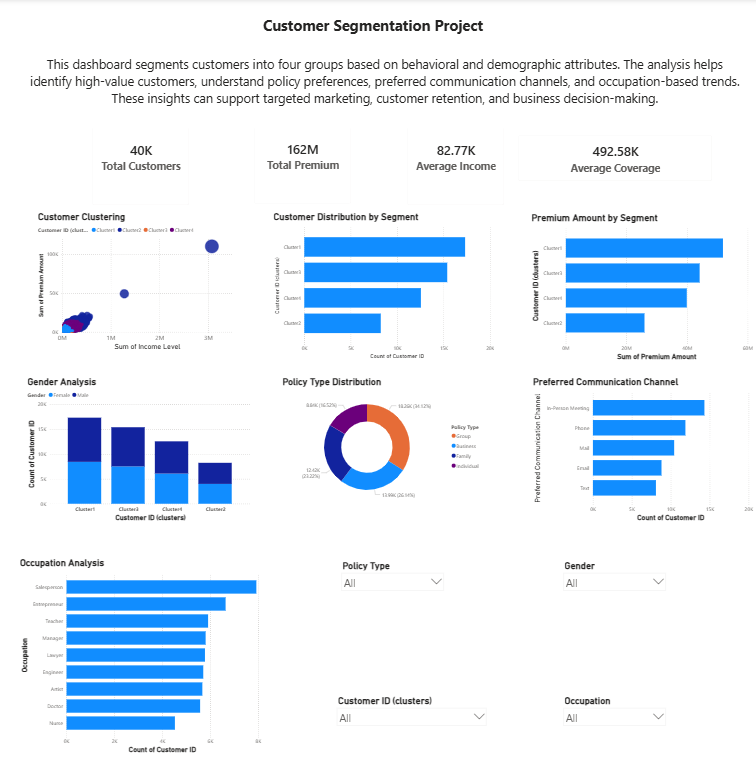

The dashboard page shown, as its layout file describes it:
{"tool":"powerbi","page":{"name":"Page 1","canvas":[1920,2000],"ordinal":0},"visuals":[{"type":"cardVisual","fields":{"Data":["customer_segmentation_dataset.Whole Customers"]},"box":[216.7,263.3,280,280],"z":0},{"type":"cardVisual","fields":{"Data":["customer_segmentation_dataset.Total Premium"]},"box":[630,260,280,280],"z":1000},{"type":"cardVisual","fields":{"Data":["customer_segmentation_dataset.Average Income"]},"box":[1016.7,263.3,280,280],"z":2000},{"type":"scatterChart","title":"Customer Clustering","fields":{"X":["Sum(customer_segmentation_dataset.Income Level)"],"Y":["Sum(customer_segmentation_dataset.Premium Amount)"],"Size":["Sum(customer_segmentation_dataset.Coverage Amount)"],"Category":["customer_segmentation_dataset.Customer ID"],"Series":["customer_segmentation_dataset.Customer ID (clusters)"]},"box":[93.3,540,516.7,360],"z":4000},{"type":"clusteredBarChart","title":"Customer Distribution by Segment","fields":{"Category":["customer_segmentation_dataset.Customer ID (clusters)"],"Y":["CountNonNull(customer_segmentation_dataset.Customer ID)"]},"box":[690,540,570,380],"z":5000},{"type":"clusteredBarChart","title":"Premium Amount by Segment","fields":{"Category":["customer_segmentation_dataset.Customer ID (clusters)"],"Y":["Sum(customer_segmentation_dataset.Premium Amount)"]},"box":[1346.7,543.3,573.3,380],"z":5001},{"type":"columnChart","title":"Gender Analysis","fields":{"Category":["customer_segmentation_dataset.Customer ID (clusters)"],"Series":["customer_segmentation_dataset.Gender"],"Y":["CountNonNull(customer_segmentation_dataset.Customer ID)"]},"box":[63.3,960,576.7,373.3],"z":5002},{"type":"donutChart","title":"Policy Type Distribution","fields":{"Category":["customer_segmentation_dataset.Policy Type"],"Y":["CountNonNull(customer_segmentation_dataset.Customer ID)"]},"box":[713.3,960,526.7,333.3],"z":5003},{"type":"clusteredBarChart","title":"Preferred Communication Channel","fields":{"Category":["customer_segmentation_dataset.Preferred Communication Channel"],"Y":["CountNonNull(customer_segmentation_dataset.Customer ID)"]},"box":[1350,960,570,373.3],"z":5004},{"type":"slicer","title":"Customer Distribution by Occupation","fields":{"Values":["customer_segmentation_dataset.Customer ID (clusters)"]},"box":[846.7,1763.3,400,163.3],"z":5005},{"type":"slicer","fields":{"Values":["customer_segmentation_dataset.Gender"]},"box":[1423.3,1423.3,280,200],"z":5006},{"type":"slicer","fields":{"Values":["customer_segmentation_dataset.Policy Type"]},"box":[856.7,1423.3,280,253.3],"z":5007},{"type":"slicer","fields":{"Values":["customer_segmentation_dataset.Occupation"]},"box":[1423.3,1763.3,280,230],"z":5008},{"type":"textbox","box":[663.3,36.7,583.3,103.3],"z":5009},{"type":"textbox","box":[63.3,140,1826.7,190],"z":5010},{"type":"clusteredBarChart","title":"Occupation Analysis","fields":{"Category":["customer_segmentation_dataset.Occupation"],"Y":["CountNonNull(customer_segmentation_dataset.Customer ID)"]},"box":[46.7,1423.3,623.3,503.3],"z":5011},{"type":"cardVisual","fields":{"Data":["customer_segmentation_dataset.mean_Coverage"]},"box":[1300,330,526.7,150],"z":5012}]}

Visuals, with their boxes in screenshot pixels (x1, y1, x2, y2), scaled from the page's 1920x2000 canvas onto the 756x783 screenshot:
cardVisual - customer_segmentation_dataset.Whole Customers: left=85, top=103, right=196, bottom=213
cardVisual - customer_segmentation_dataset.Total Premium: left=248, top=102, right=358, bottom=211
cardVisual - customer_segmentation_dataset.Average Income: left=400, top=103, right=511, bottom=213
"Customer Clustering" scatterChart: left=37, top=211, right=240, bottom=352
"Customer Distribution by Segment" clusteredBarChart: left=272, top=211, right=496, bottom=360
"Premium Amount by Segment" clusteredBarChart: left=530, top=213, right=755, bottom=361
"Gender Analysis" columnChart: left=25, top=376, right=252, bottom=522
"Policy Type Distribution" donutChart: left=281, top=376, right=488, bottom=506
"Preferred Communication Channel" clusteredBarChart: left=532, top=376, right=755, bottom=522
"Customer Distribution by Occupation" slicer: left=333, top=690, right=491, bottom=754
slicer - customer_segmentation_dataset.Gender: left=560, top=557, right=671, bottom=636
slicer - customer_segmentation_dataset.Policy Type: left=337, top=557, right=448, bottom=656
slicer - customer_segmentation_dataset.Occupation: left=560, top=690, right=671, bottom=780
textbox: left=261, top=14, right=491, bottom=55
textbox: left=25, top=55, right=744, bottom=129
"Occupation Analysis" clusteredBarChart: left=18, top=557, right=264, bottom=754
cardVisual - customer_segmentation_dataset.mean_Coverage: left=512, top=129, right=719, bottom=188
